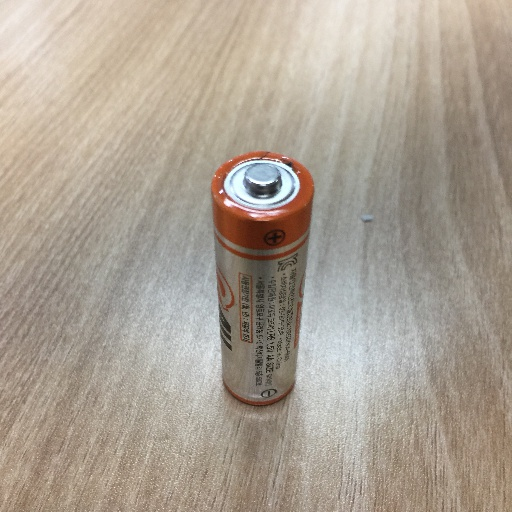Battery_0: (205, 142, 325, 416)
